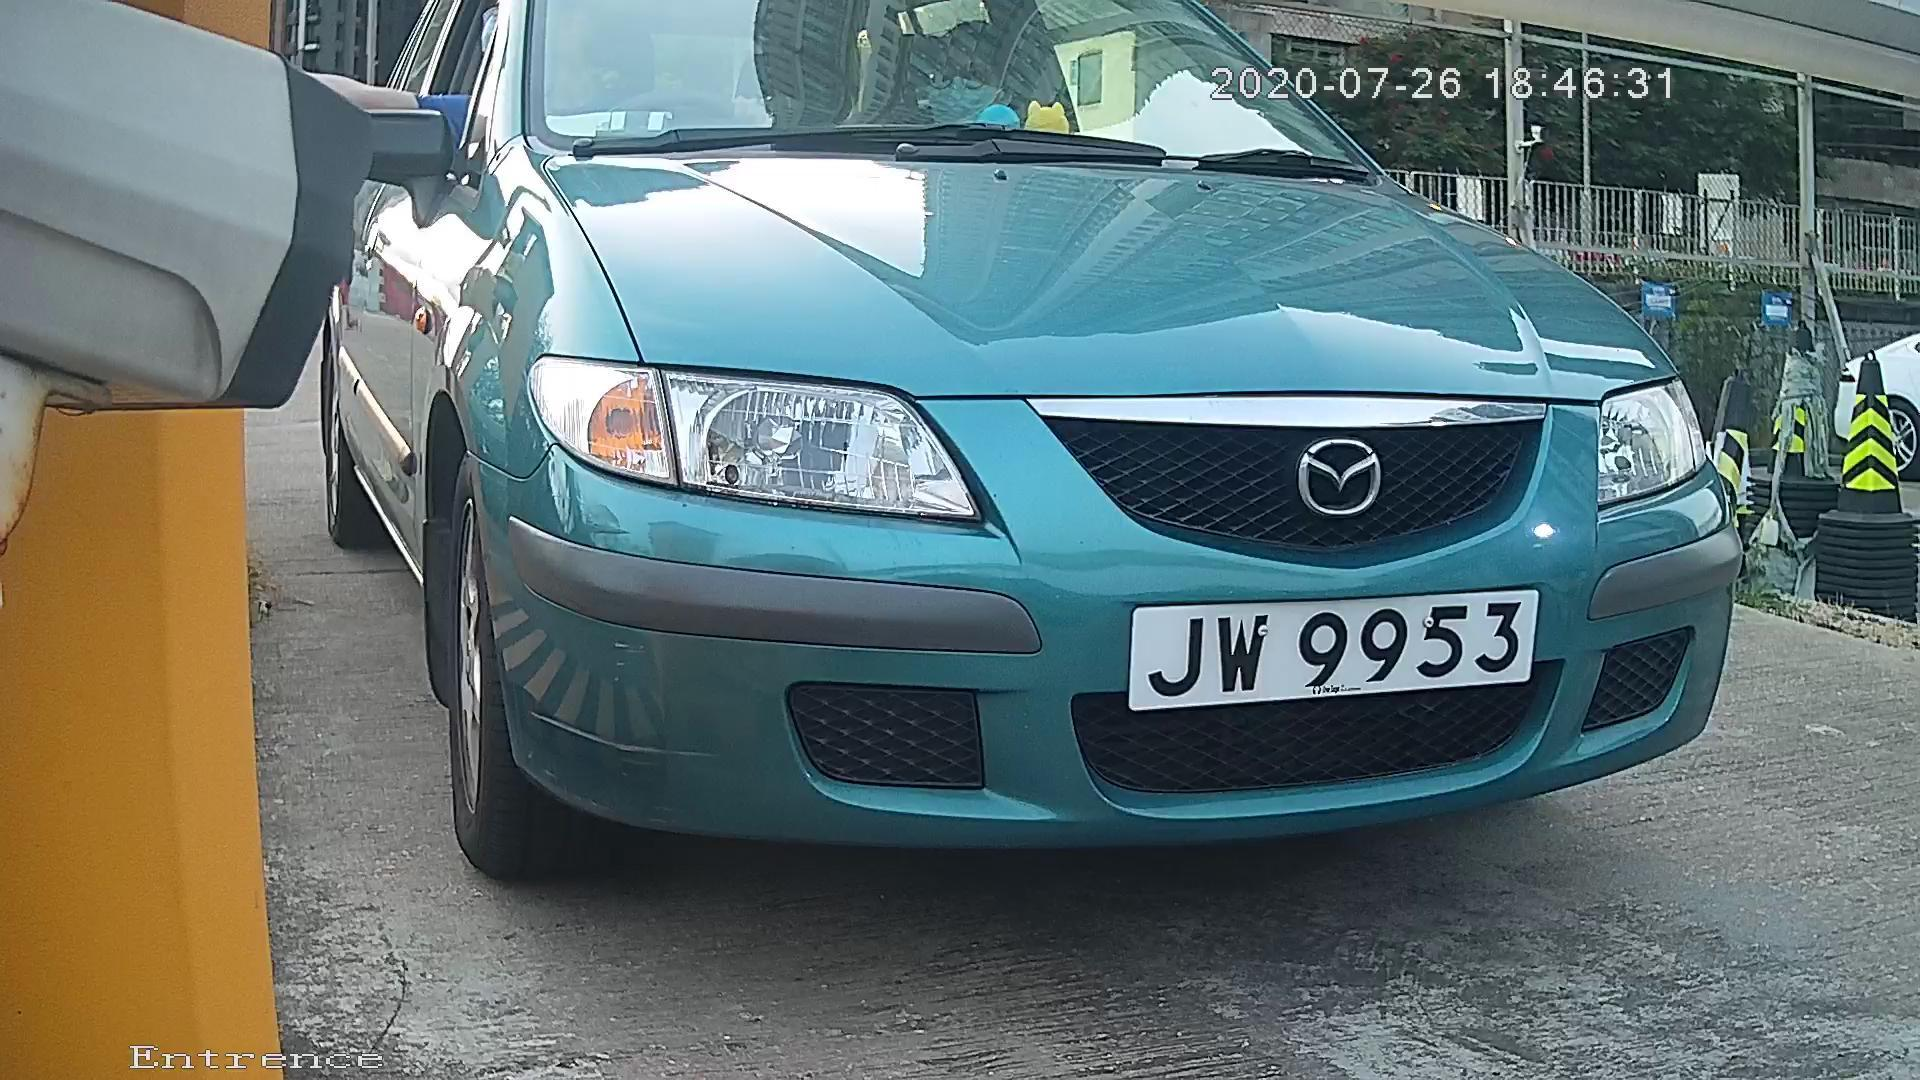Car: (301, 25, 1766, 921)
License Plate: (1123, 579, 1561, 719)
